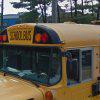Bus: (4, 17, 95, 98)
